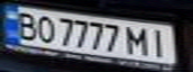7: (103, 21, 124, 53), (69, 17, 90, 48), (54, 16, 75, 46), (87, 19, 106, 51)
B: (9, 9, 42, 40)
I: (145, 26, 175, 57)
M: (124, 24, 151, 56)
O: (33, 12, 57, 44)
